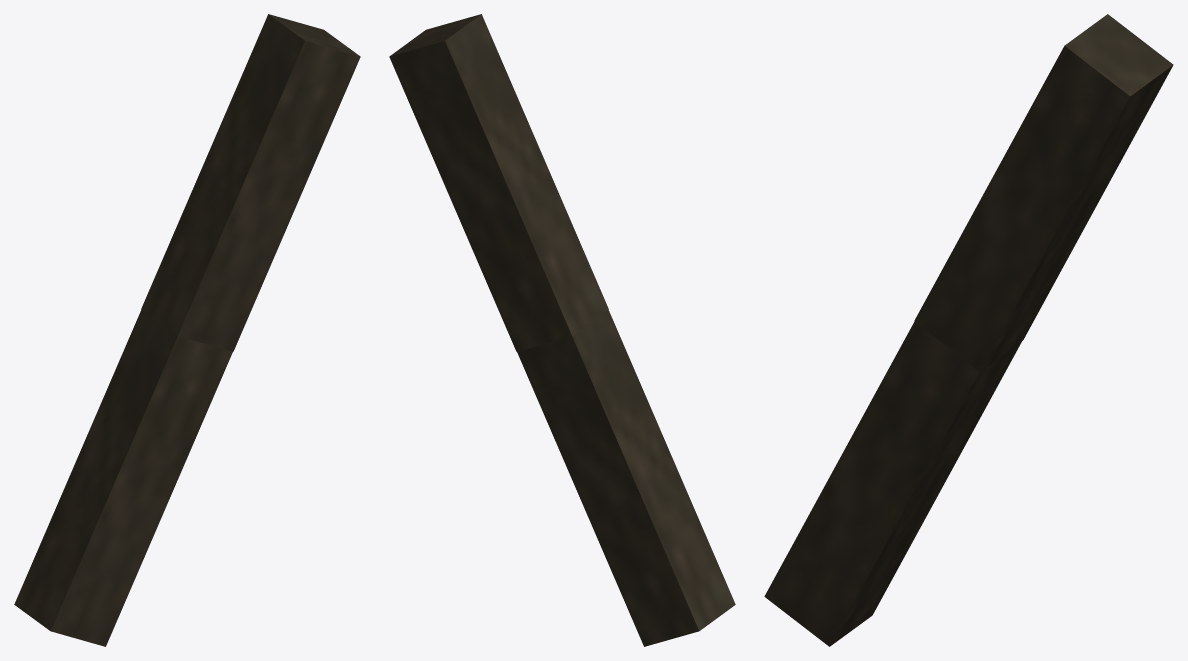
The model's file is twisting_vines_diagonal_beamtall_right.obj.
3 views of the same model, side by side, from view 1: azimuth 30°, elevation 25°; view 2: azimuth 150°, elevation 25°; view 3: azimuth 330°, elevation 25° (orthographic). The views are drawn at different scales.
Parts seen in each view (by area): view 1: cube; view 2: cube; view 3: cube.
Boxes of the visible parts, x1,y1,x2,y2 form: cube: (14, 14, 360, 646); cube: (389, 14, 735, 646); cube: (764, 14, 1173, 646).
Size of the model in its own units: 1.83 by 3.15 by 0.375.
